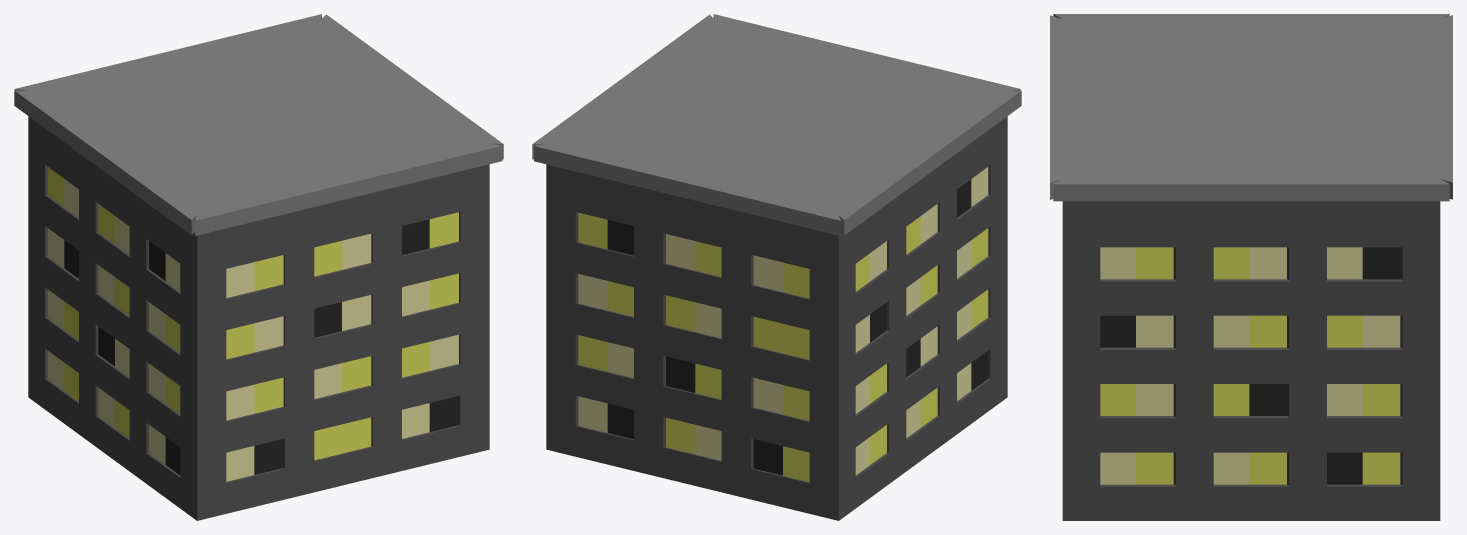
File: skyscraper.fbx
3 views of the same model, side by side, from view 1: azimuth 30°, elevation 25°; view 2: azimuth 150°, elevation 25°; view 3: azimuth 270°, elevation 25° (orthographic). The views are drawn at different scales.
Parts seen in each view (by area): view 1: building; view 2: building; view 3: building.
Boxes of the visible parts, left/top/right/bottom form: building: left=14, top=14, right=503, bottom=520; building: left=532, top=14, right=1021, bottom=520; building: left=1050, top=14, right=1452, bottom=520.
Bounding box in the file's own units: 3200 × 3000 × 3200.
